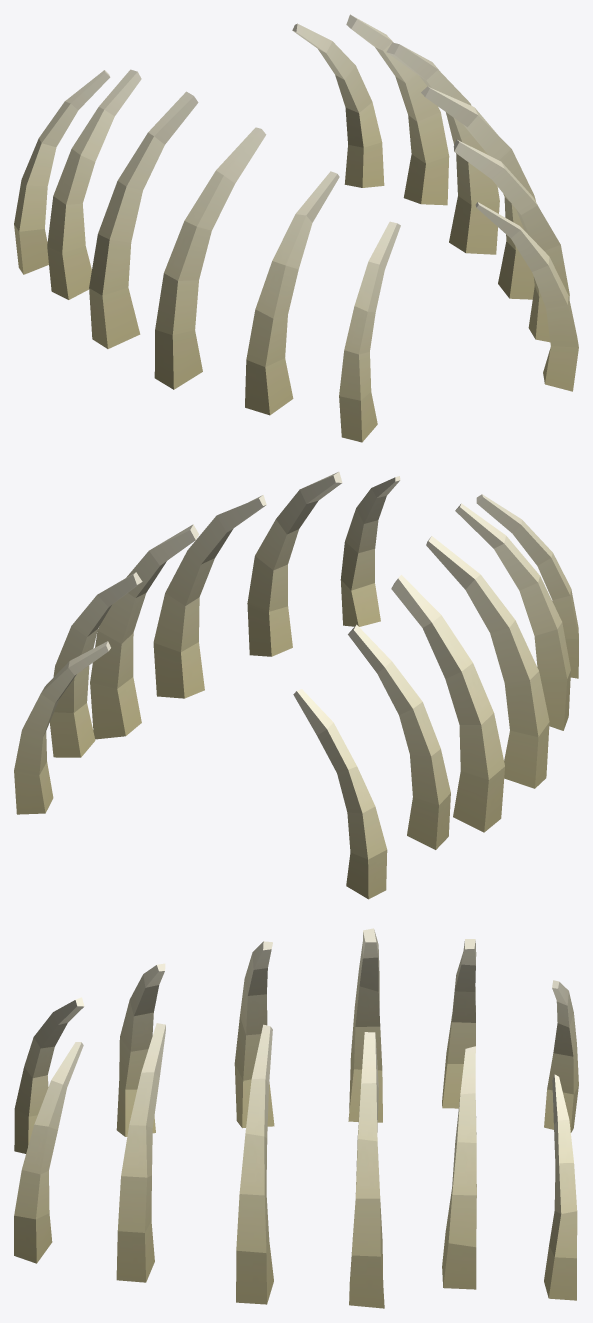
The model's file is Bones_GiantRibCage.fbx.
3 views of the same model, one above another, from view 1: azimuth 30°, elevation 25°; view 2: azimuth 150°, elevation 25°; view 3: azimuth 270°, elevation 25° (orthographic).
Parts seen in each view (by area): view 1: Bones_GiantRibCage; view 2: Bones_GiantRibCage; view 3: Bones_GiantRibCage.
Part boxes in pixels (bbox=[...]): Bones_GiantRibCage: bbox=[14, 14, 578, 442]; Bones_GiantRibCage: bbox=[14, 472, 578, 899]; Bones_GiantRibCage: bbox=[14, 928, 578, 1308].
Bounding box in the file's own units: 429 × 519 × 238.
Materials: 1 (1 with a texture image).
